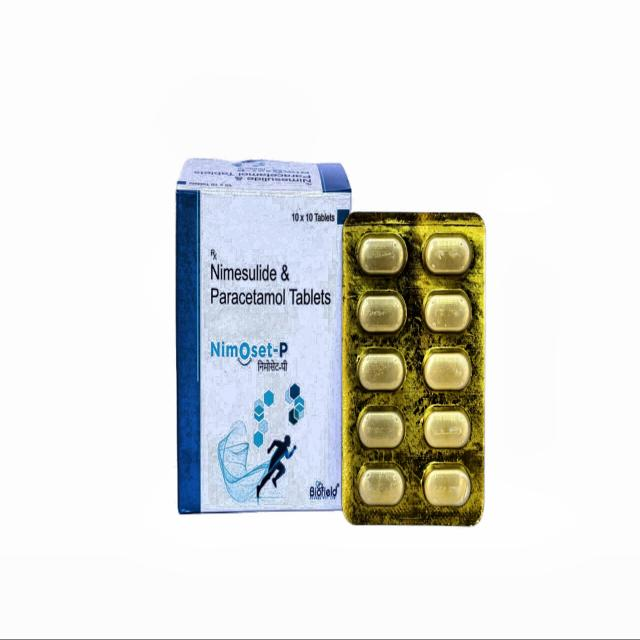Paracetamol: (195, 233, 341, 338)
